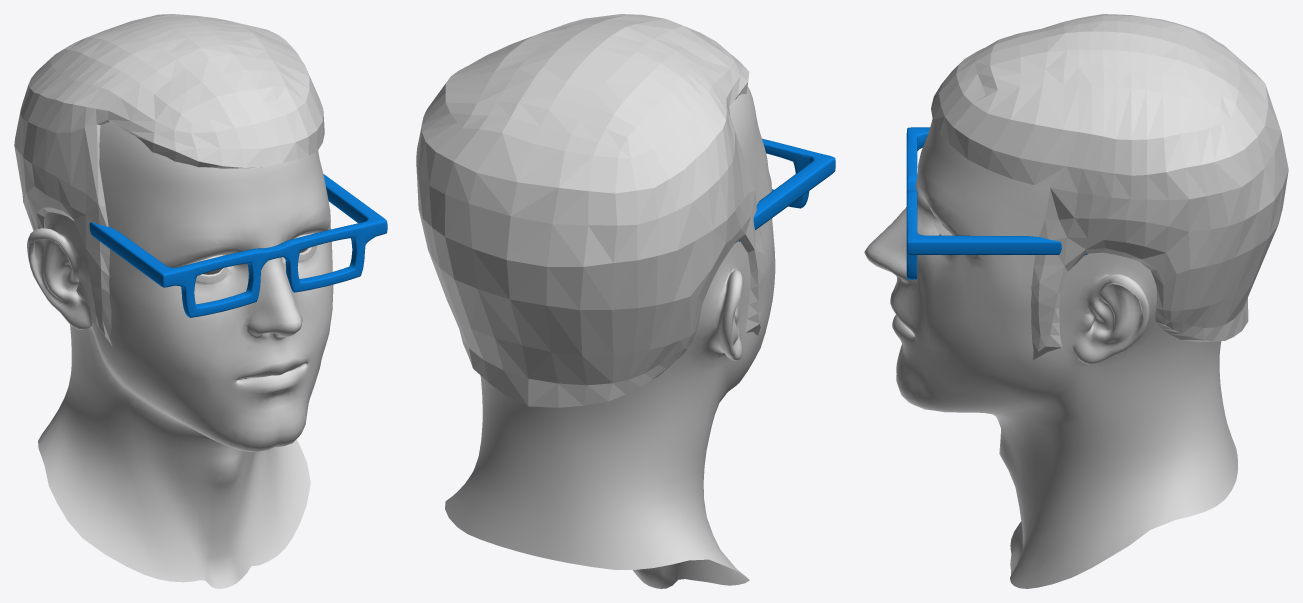
File: gregHead.fbx
3 views of the same model, side by side, from view 1: azimuth 30°, elevation 25°; view 2: azimuth 150°, elevation 25°; view 3: azimuth 270°, elevation 25° (orthographic). The views are drawn at different scales.
Visible parts, largest first — view 1: Head, Hair, Glasses; view 2: Hair, Head, Glasses; view 3: Head, Hair, Glasses.
Boxes of the visible parts, <box> form: Head: <box>27,121,333,588</box>; Hair: <box>14,14,324,346</box>; Glasses: <box>89,174,387,317</box>; Hair: <box>416,14,764,407</box>; Head: <box>445,86,775,588</box>; Glasses: <box>739,138,835,241</box>; Head: <box>864,119,1237,588</box>; Hair: <box>931,14,1288,359</box>; Glasses: <box>906,127,1087,279</box>.
Size of the model in its own units: 18.14 by 33.32 by 23.45.
